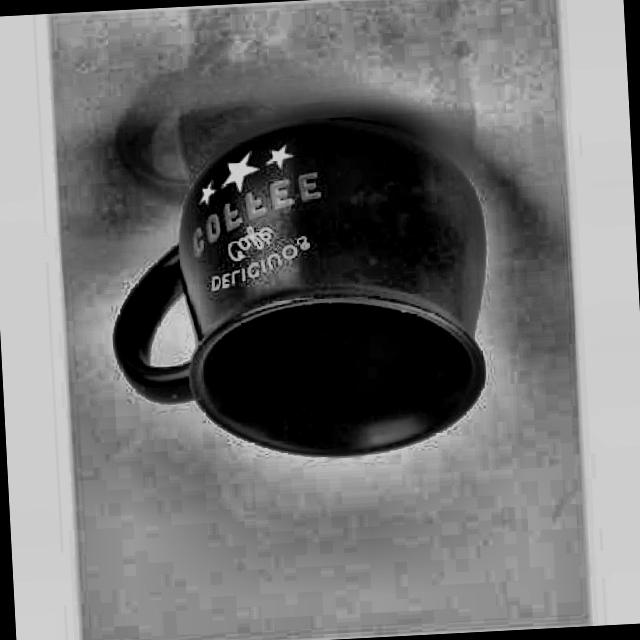Mug: (102, 111, 501, 469)
